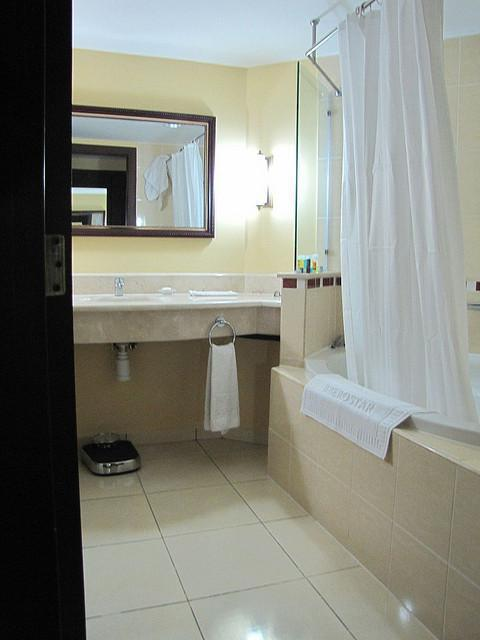Lavamanos: (85, 271, 163, 310)
